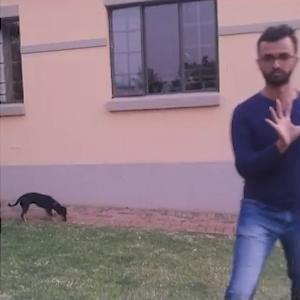follow_hand: (259, 92, 299, 150)
